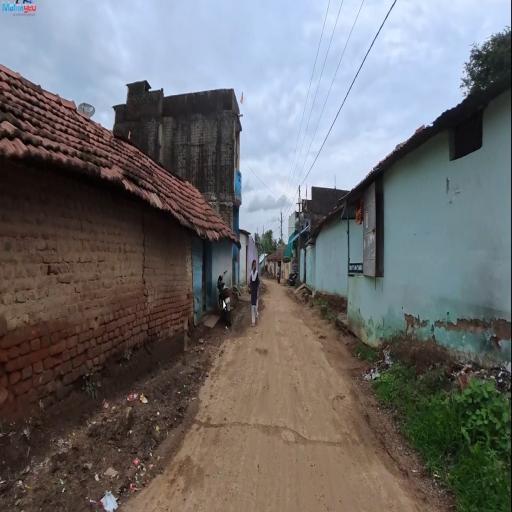longitudinal_crack: (196, 404, 357, 462)
